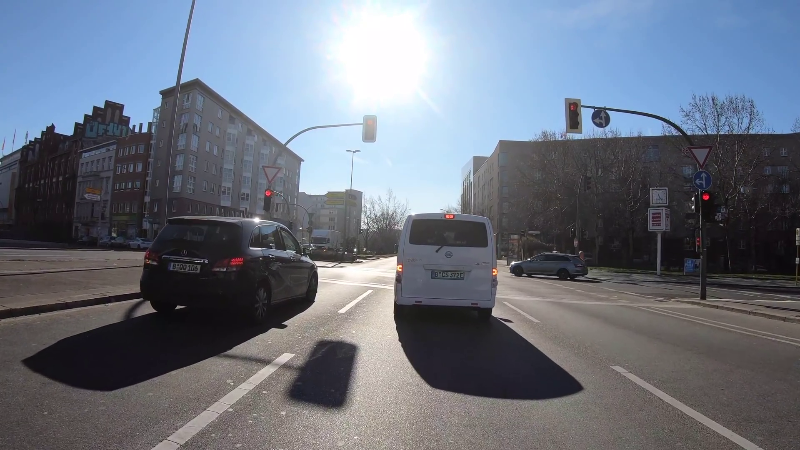Plate: (164, 260, 205, 274), (428, 269, 467, 281)
